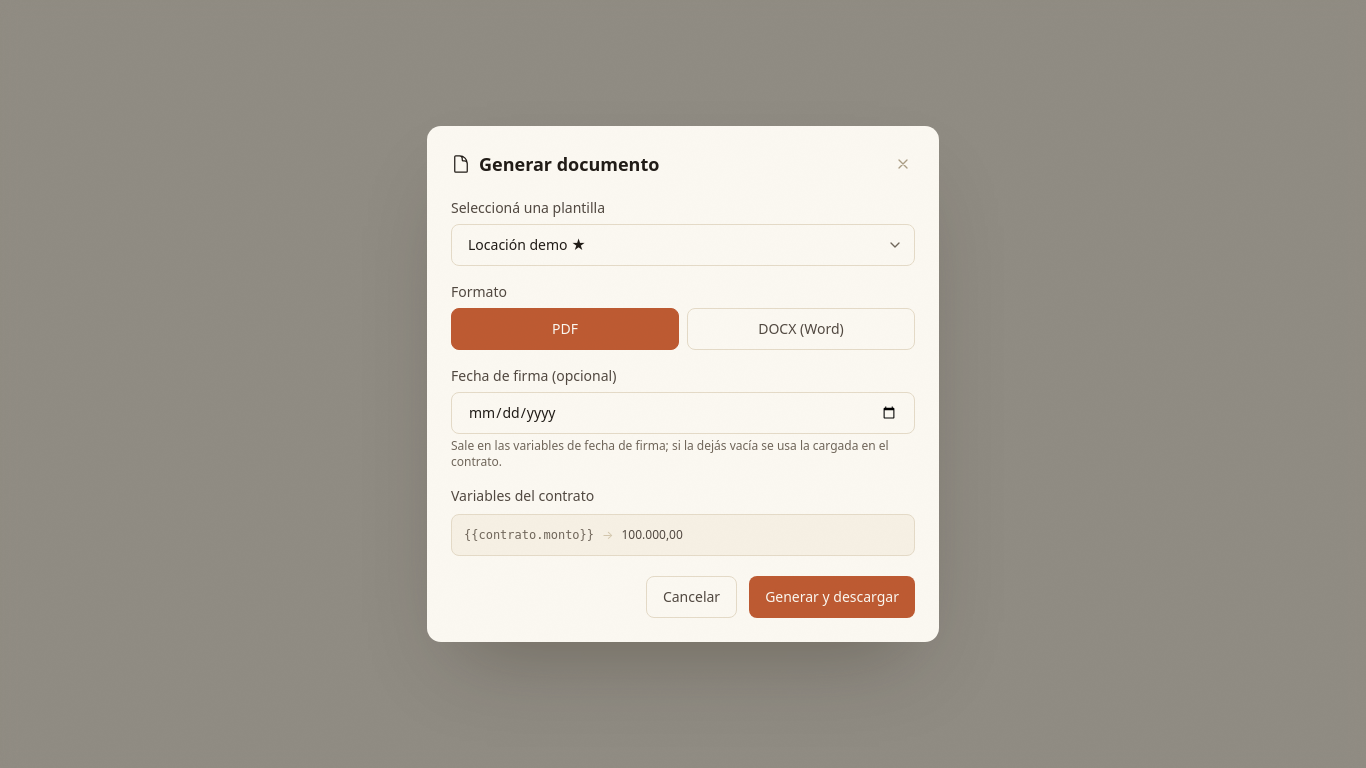
Test: GenerateDocumentModal: fecha de firma › una plantilla mal formada muestra el mensaje de la API
The width and height of the screenshot is (1366, 768).
Expected: the dropdown labelled "Seleccioná una plantilla" is shown, [451,224,915,266]
Click the button "Generar y descargar": (832,597) [749,576,915,618]
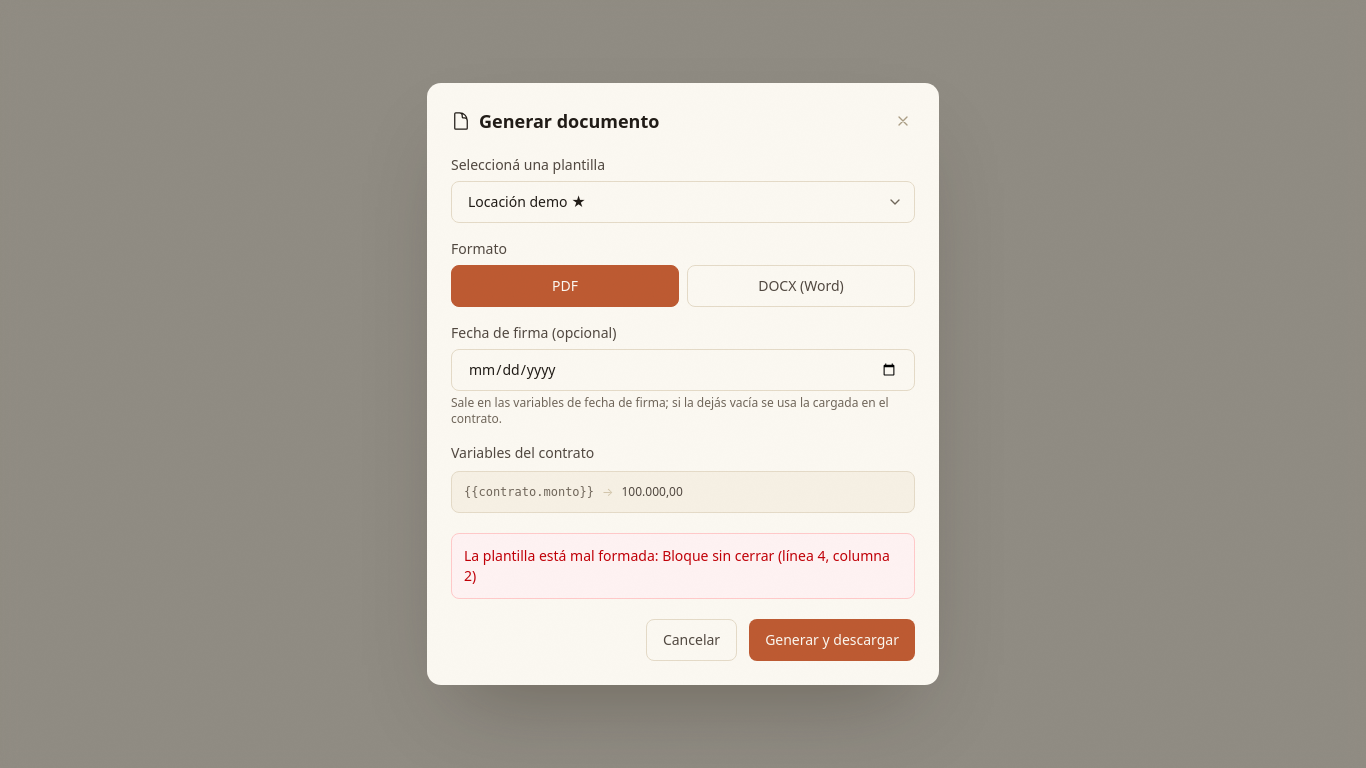
Result: the text "La plantilla está mal formada: Bloque sin cerrar (línea 4, columna 2)" is shown at [451,533,915,599]
